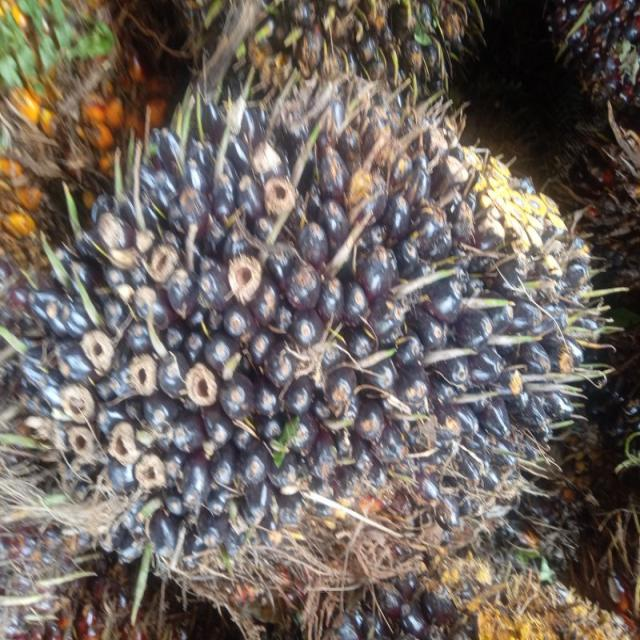fraksi 00: (49, 72, 600, 573)
